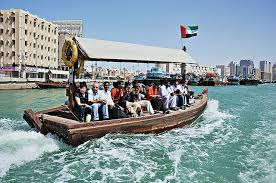boat: (23, 35, 205, 148)
